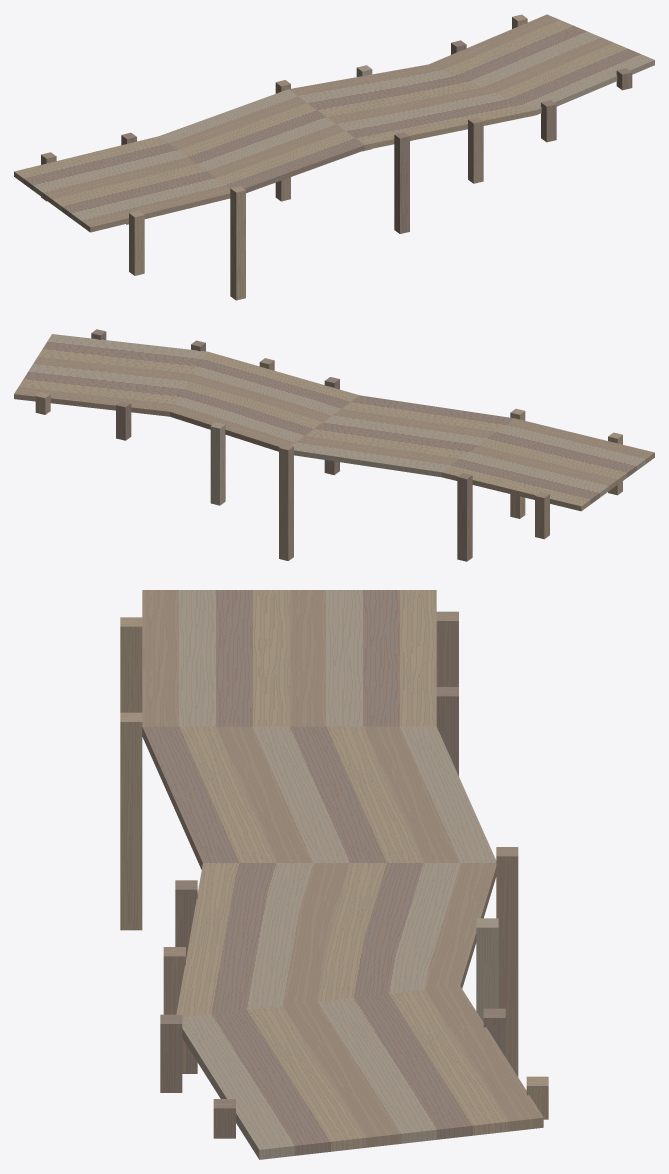
File: 00bb_Pier.glb
3 views of the same model, one above another, from view 1: azimuth 30°, elevation 25°; view 2: azimuth 150°, elevation 25°; view 3: azimuth 270°, elevation 25° (orthographic). The views are drawn at different scales.
Visible parts, largest first — view 1: part_0; view 2: part_0; view 3: part_0.
Boxes of the visible parts, x1,y1,x2,y2 form: part_0: (14, 14, 654, 300); part_0: (14, 329, 654, 561); part_0: (120, 590, 548, 1159).
Size of the model in its own units: 18 by 3.33 by 5.82.
1 material, 1 textured.
